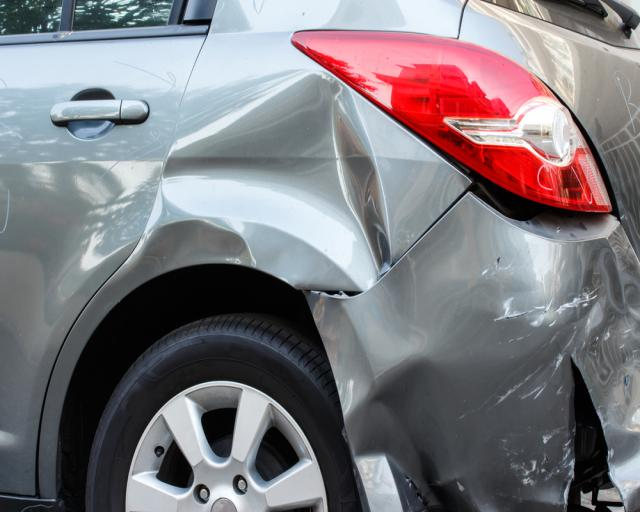crack: (564, 352, 627, 512)
dent: (143, 75, 395, 287), (342, 350, 481, 512), (565, 233, 640, 494)
scratch: (479, 256, 577, 501)
